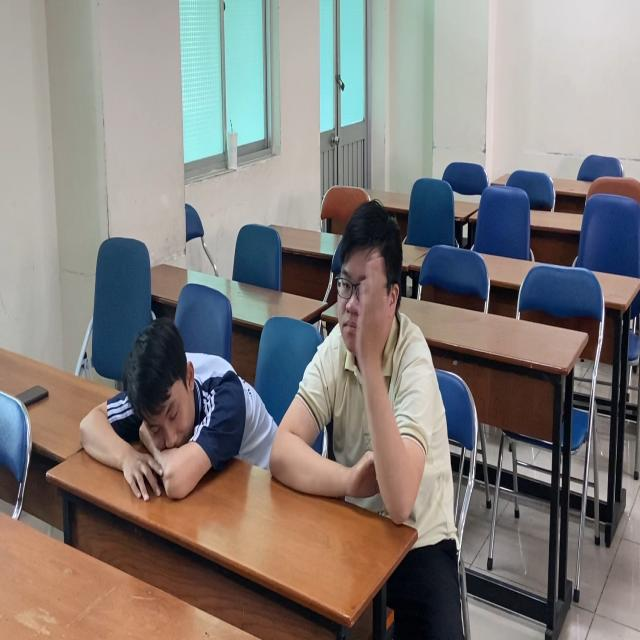raise_hand: (296, 193, 445, 541)
sleep: (68, 316, 275, 514)
